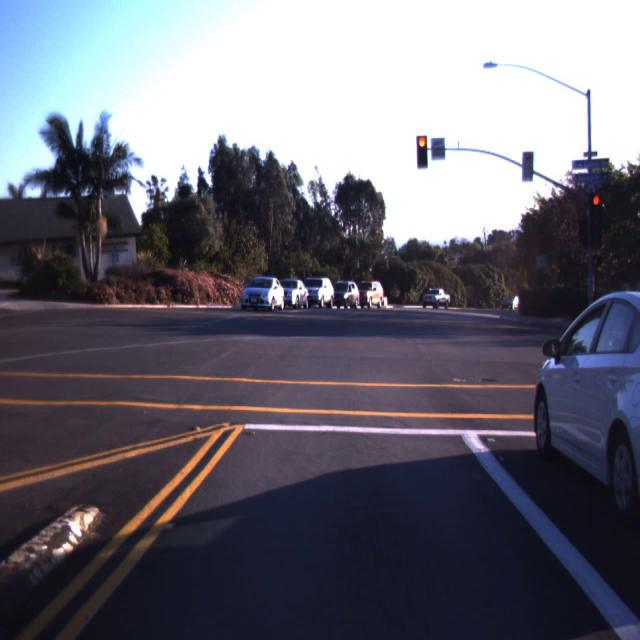kirmizi: (416, 136, 428, 168)
